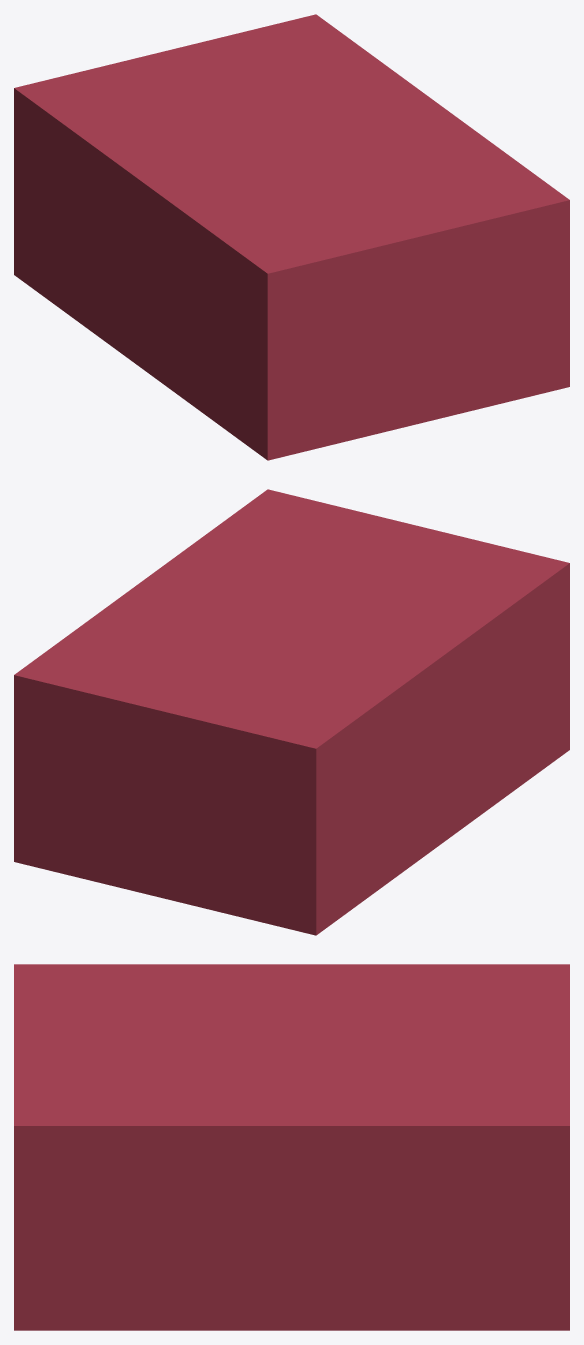
Rendered from server_rack_v01.glb.
3 renders of one model, top to bottom at view 1: azimuth 30°, elevation 25°; view 2: azimuth 150°, elevation 25°; view 3: azimuth 270°, elevation 25°, orthographic. The views are drawn at different scales.
Parts seen in each view (by area): view 1: box_0; view 2: box_0; view 3: box_0.
Boxes of the visible parts, x1=… form: box_0: x1=14, y1=14, x2=569, y2=460; box_0: x1=14, y1=489, x2=569, y2=935; box_0: x1=14, y1=964, x2=569, y2=1330.
Bounding box in the file's own units: 1.1 × 0.671 × 1.6.
